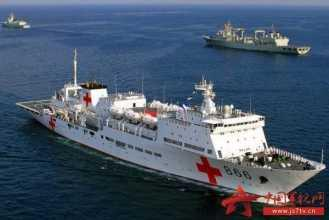warship: (18, 55, 322, 193), (203, 18, 313, 54)
